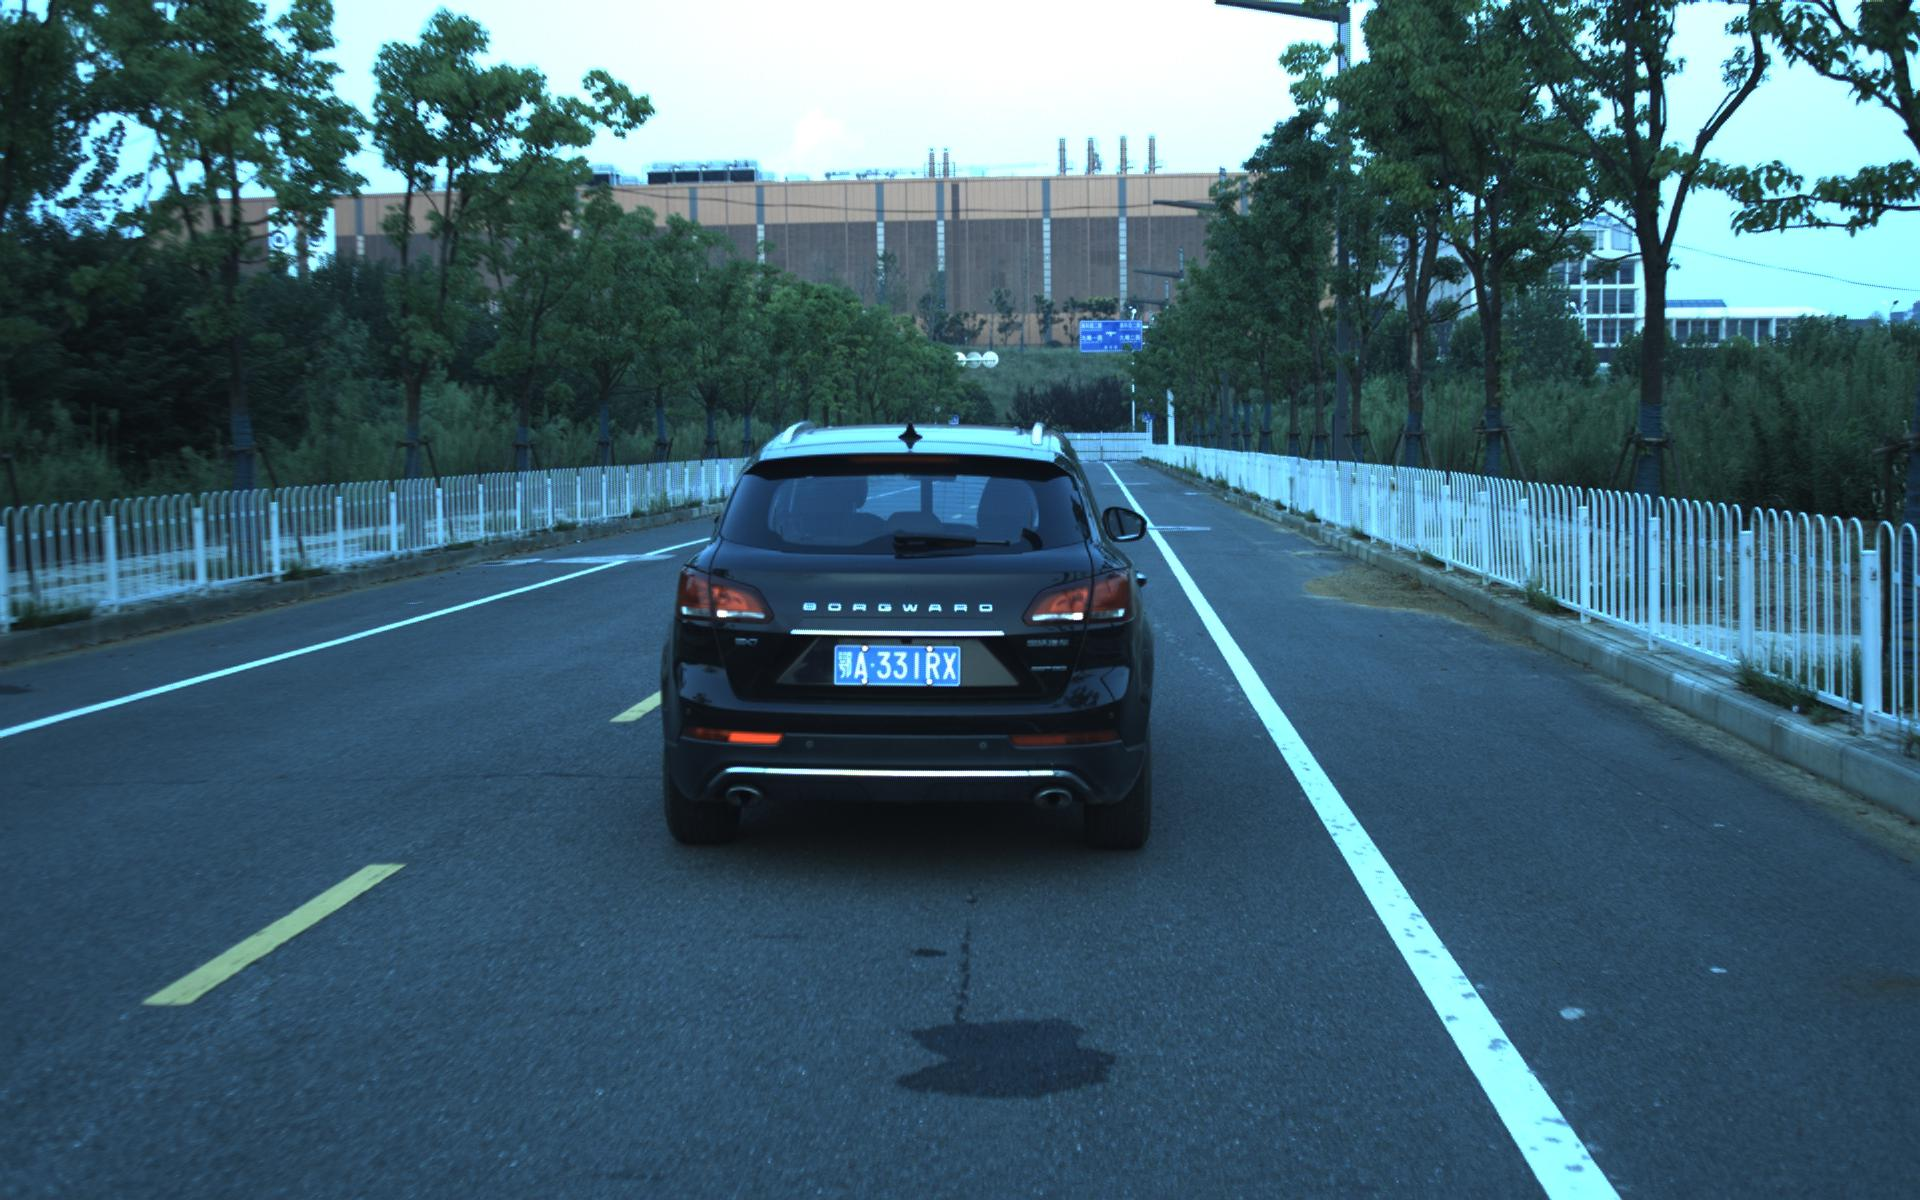Car: (646, 391, 1167, 872)
